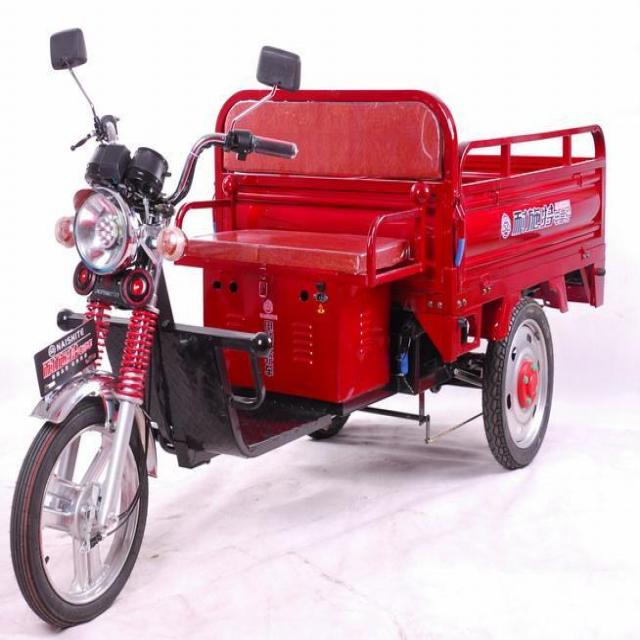tricycle: (6, 22, 605, 630)
